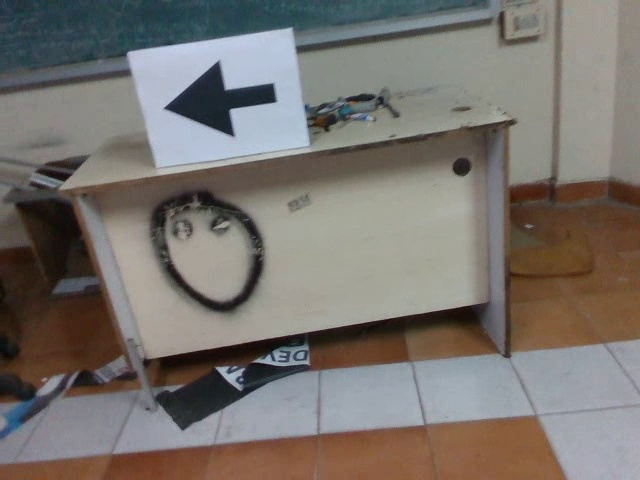Left: (159, 59, 281, 143)
